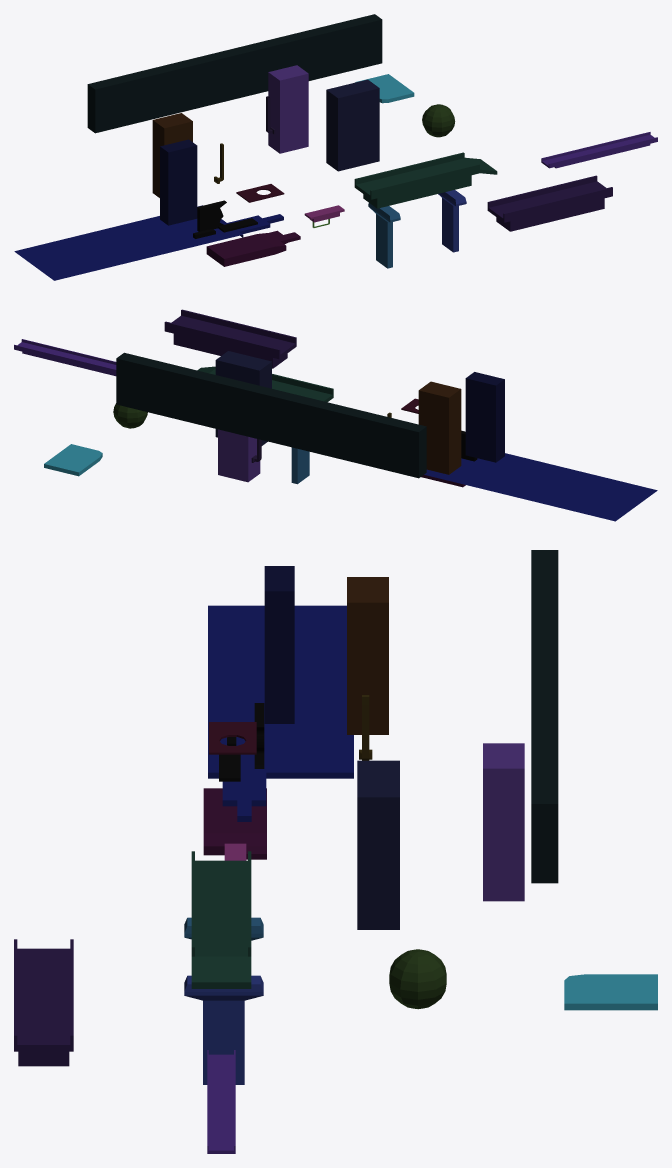
Rendered from for level 3.fbx.
3 views of the same model, one above another, from view 1: azimuth 30°, elevation 25°; view 2: azimuth 150°, elevation 25°; view 3: azimuth 270°, elevation 25° (orthographic). The views are drawn at different scales.
Parts seen in each view (by area): view 1: pipe001; view 2: pipe001; view 3: pipe001.
Boxes of the visible parts, x1,y1,x2,y2 form: pipe001: (14,14,657,280); pipe001: (14,309,657,521); pipe001: (14,550,657,1153).
Size of the model in its own units: 9010 by 2311 by 4595.
